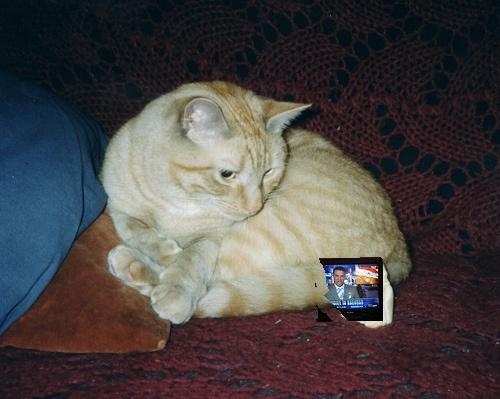tampered: (316, 258, 383, 322)
